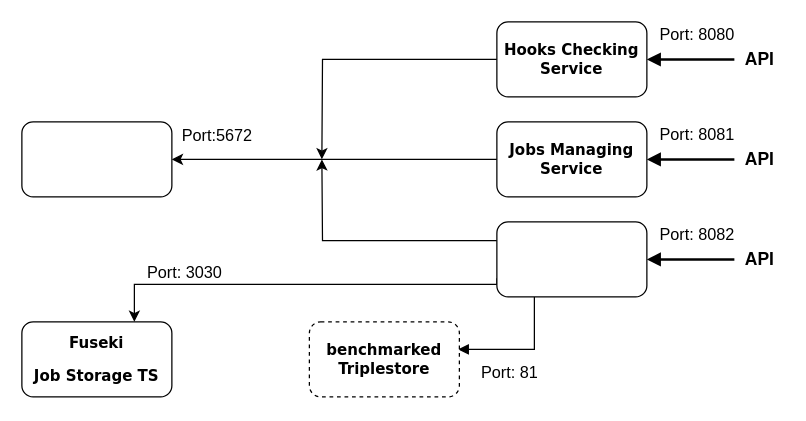
Image size: 806x421. Some labels were removed from this diagram. Here are the shapes that lost their labels. From the top down, the centre of each, then its label:
At [96,159]: "RabbitMQ".
At [571,259]: "Triplestore Benchmarking Service".
